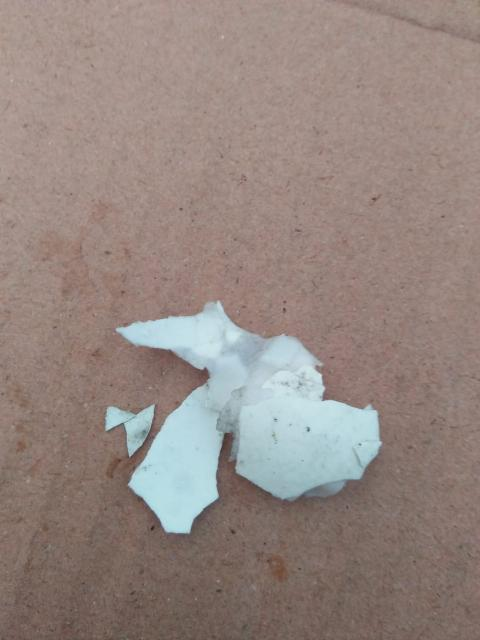Roto: (108, 298, 382, 535)
